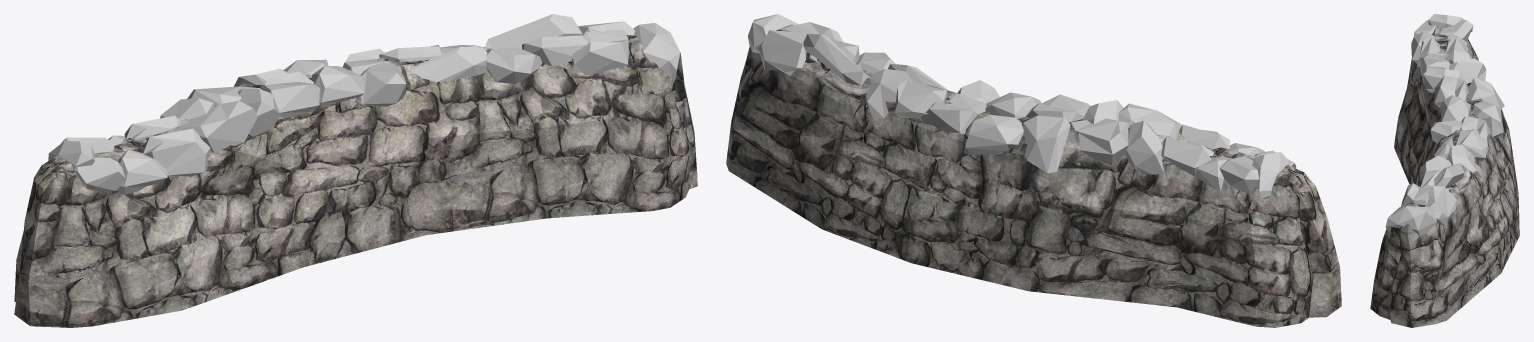
Rendered from Wall_1b_LOD1.fbx.
3 renders of one model, left to right at view 1: azimuth 30°, elevation 25°; view 2: azimuth 150°, elevation 25°; view 3: azimuth 270°, elevation 25°, orthographic. The views are drawn at different scales.
Visible parts, largest first — view 1: Wall, Rock; view 2: Wall, Rock; view 3: Wall, Rock.
Boxes of the visible parts, bbox=[...] form: Wall: bbox=[14, 35, 697, 327]; Rock: bbox=[48, 14, 680, 194]; Wall: bbox=[726, 24, 1341, 327]; Rock: bbox=[748, 14, 1296, 198]; Wall: bbox=[1370, 26, 1519, 327]; Rock: bbox=[1385, 14, 1504, 236].
Size of the model in its own units: 858 by 240 by 211.
